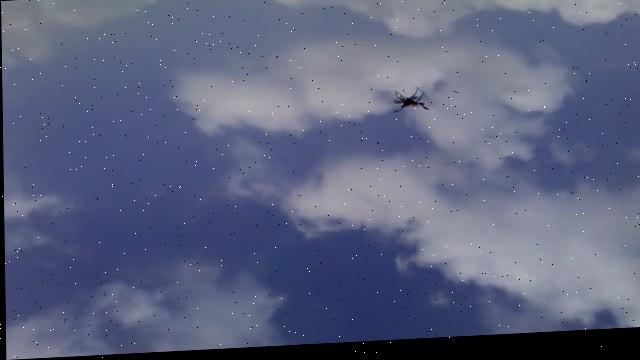drone: (387, 90, 430, 121)
